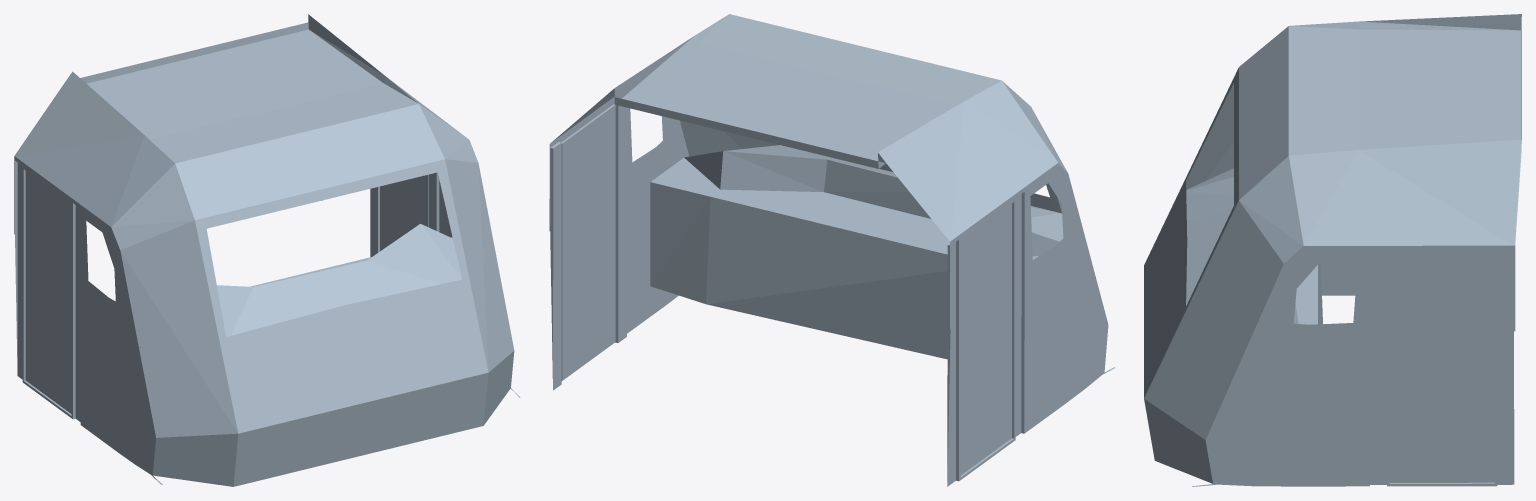
File: togsett_forerrom_inne.fbx
The picture shows the model from 3 angles, left to right: view 1: azimuth 30°, elevation 25°; view 2: azimuth 150°, elevation 25°; view 3: azimuth 270°, elevation 25°; orthographic projection. The views are drawn at different scales.
Visible parts, largest first — view 1: Inne.001, Inne, Bord1; view 2: Inne.001, Bord1, Inne; view 3: Inne, Inne.001, Bord1.
Boxes of the visible parts, x1,y1,x2,y2 form: Inne.001: (14,51,363,486); Inne: (190,14,520,456); Bord1: (139,224,461,347); Inne.001: (746,47,1115,486); Bord1: (650,145,1063,359); Inne: (549,14,893,390); Inne: (1144,86,1521,486); Inne.001: (1144,14,1521,331); Bord1: (1186,168,1322,324).
Size of the model in its own units: 306 by 236 by 255.
